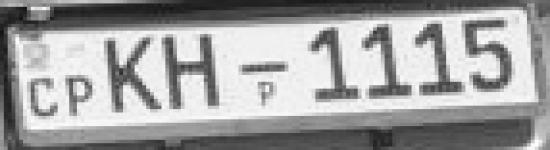-: (236, 59, 292, 79)
1: (298, 27, 361, 104), (408, 20, 466, 93), (362, 23, 414, 100)
5: (462, 17, 520, 96)
C: (24, 74, 61, 122)
H: (161, 32, 226, 115)
K: (95, 32, 163, 114)
P: (63, 72, 98, 117)
